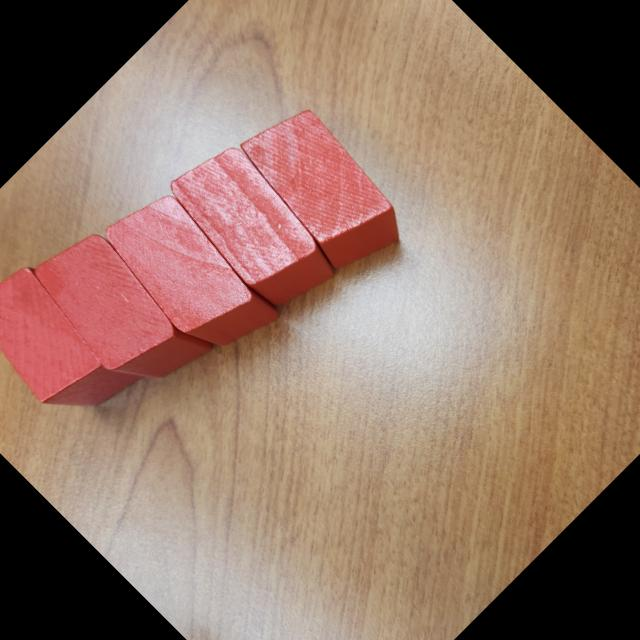red: (90, 177, 288, 376), (154, 128, 352, 326), (224, 90, 422, 288), (19, 218, 216, 414), (0, 252, 143, 439)
